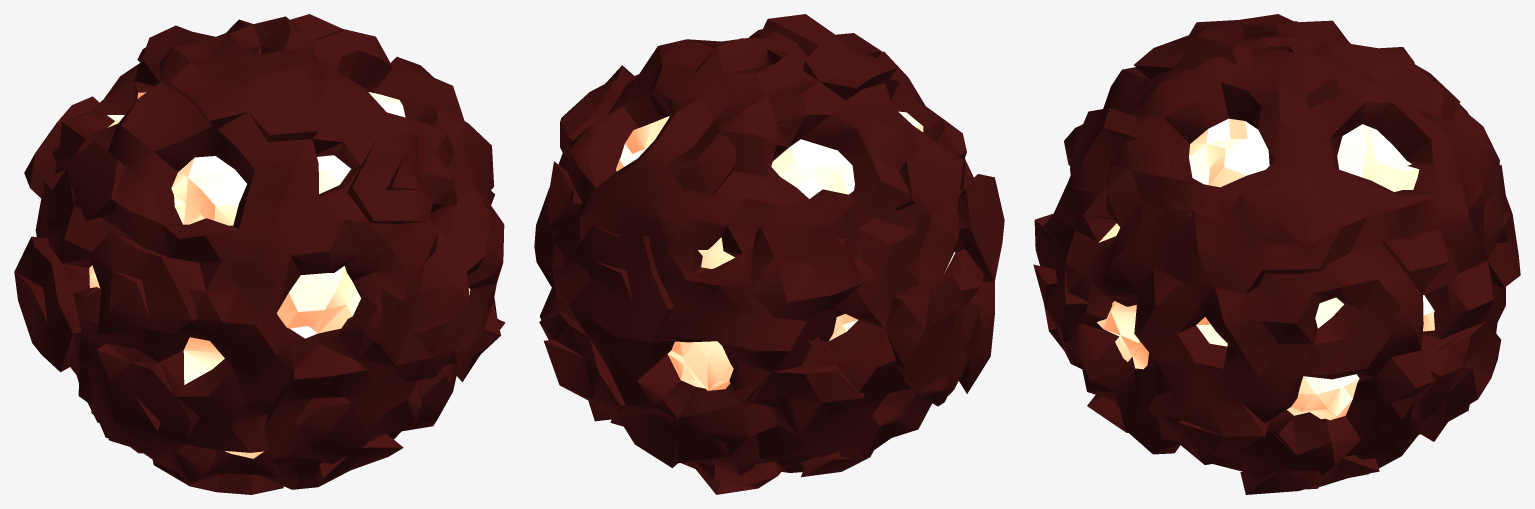
3 views of the same model, side by side, from view 1: azimuth 30°, elevation 25°; view 2: azimuth 150°, elevation 25°; view 3: azimuth 270°, elevation 25° (orthographic). The views are drawn at different scales.
Parts seen in each view (by area): view 1: Planet, Craters; view 2: Planet, Craters; view 3: Planet, Craters.
Part boxes in pixels (left/top/right/bottom): Planet: left=14, top=14, right=505, bottom=494; Craters: left=89, top=92, right=470, bottom=458; Planet: left=534, top=14, right=1004, bottom=494; Craters: left=616, top=111, right=954, bottom=390; Planet: left=1033, top=14, right=1520, bottom=494; Craters: left=1097, top=118, right=1434, bottom=420.
Bounding box in the file's own units: 0.185 × 0.185 × 0.1857.
